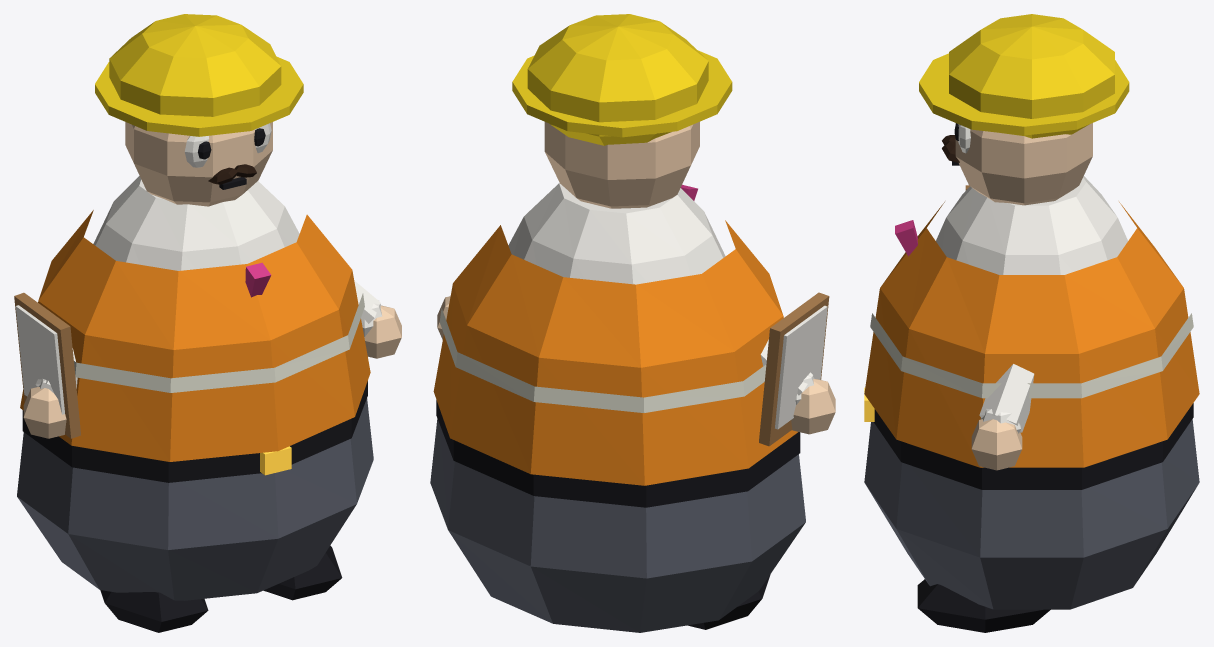
File: npc_ingeniero.glb
3 renders of one model, left to right at view 1: azimuth 30°, elevation 25°; view 2: azimuth 150°, elevation 25°; view 3: azimuth 270°, elevation 25°, orthographic. The views are drawn at different scales.
Visible parts, largest first — view 1: body_safety_vest, body_engineer_pants, cap_hard_hat, body_engineer_shirt, head_skin_crema, body_black, legs_black, body_vest_stripe, arms_skin_crema, props_white, props_clipboard, arms_engineer_shirt (+5 smaller); view 2: body_safety_vest, body_engineer_pants, cap_hard_hat, body_engineer_shirt, head_skin_crema, body_black, body_vest_stripe, props_white, props_clipboard, arms_skin_crema, legs_black; view 3: body_safety_vest, body_engineer_pants, cap_hard_hat, body_engineer_shirt, head_skin_crema, body_black, body_vest_stripe, legs_black, arms_engineer_shirt, arms_skin_crema, body_engineer_tie.
Boxes of the visible parts, x1=… form: body_safety_vest: x1=20, y1=210, x2=370, y2=461; body_engineer_pants: x1=17, y1=398, x2=373, y2=600; cap_hard_hat: x1=95, y1=14, x2=303, y2=136; body_engineer_shirt: x1=93, y1=176, x2=299, y2=270; head_skin_crema: x1=125, y1=122, x2=272, y2=206; body_black: x1=22, y1=381, x2=367, y2=482; legs_black: x1=100, y1=545, x2=342, y2=632; body_vest_stripe: x1=74, y1=293, x2=364, y2=392; arms_skin_crema: x1=23, y1=305, x2=401, y2=438; props_white: x1=15, y1=305, x2=64, y2=414; props_clipboard: x1=14, y1=292, x2=80, y2=438; arms_engineer_shirt: x1=35, y1=280, x2=382, y2=392; body_safety_vest: x1=433, y1=220, x2=797, y2=485; body_engineer_pants: x1=430, y1=419, x2=805, y2=632; cap_hard_hat: x1=512, y1=14, x2=732, y2=145; body_engineer_shirt: x1=508, y1=183, x2=725, y2=284; head_skin_crema: x1=544, y1=121, x2=699, y2=208; body_black: x1=436, y1=400, x2=800, y2=507; body_vest_stripe: x1=439, y1=308, x2=766, y2=412; props_white: x1=775, y1=305, x2=827, y2=429; props_clipboard: x1=759, y1=292, x2=829, y2=446; arms_skin_crema: x1=437, y1=296, x2=835, y2=434; legs_black: x1=687, y1=574, x2=770, y2=629; body_safety_vest: x1=864, y1=202, x2=1199, y2=467; body_engineer_pants: x1=864, y1=419, x2=1199, y2=609; cap_hard_hat: x1=919, y1=14, x2=1129, y2=138; body_engineer_shirt: x1=936, y1=176, x2=1127, y2=274; head_skin_crema: x1=955, y1=123, x2=1092, y2=205; body_black: x1=874, y1=403, x2=1193, y2=489; body_vest_stripe: x1=870, y1=313, x2=1193, y2=398; legs_black: x1=917, y1=579, x2=1050, y2=632; arms_engineer_shirt: x1=979, y1=364, x2=1034, y2=433; arms_skin_crema: x1=971, y1=419, x2=1022, y2=470; body_engineer_tie: x1=895, y1=220, x2=917, y2=256.
Bounding box in the file's own units: 1.13 × 1.6 × 0.86.
